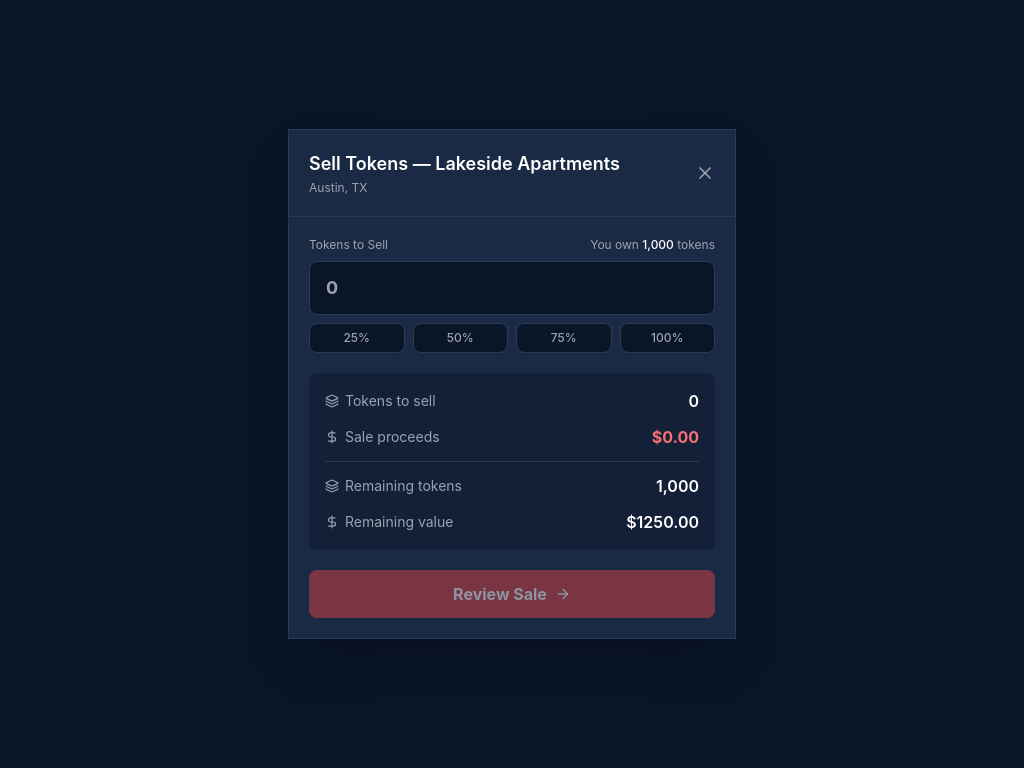
Test: SellModal › Step 1 — tokens › Review Sale button is enabled after selecting tokens
Click the button "25%" at x=357, y=338, box [309,323,404,353]
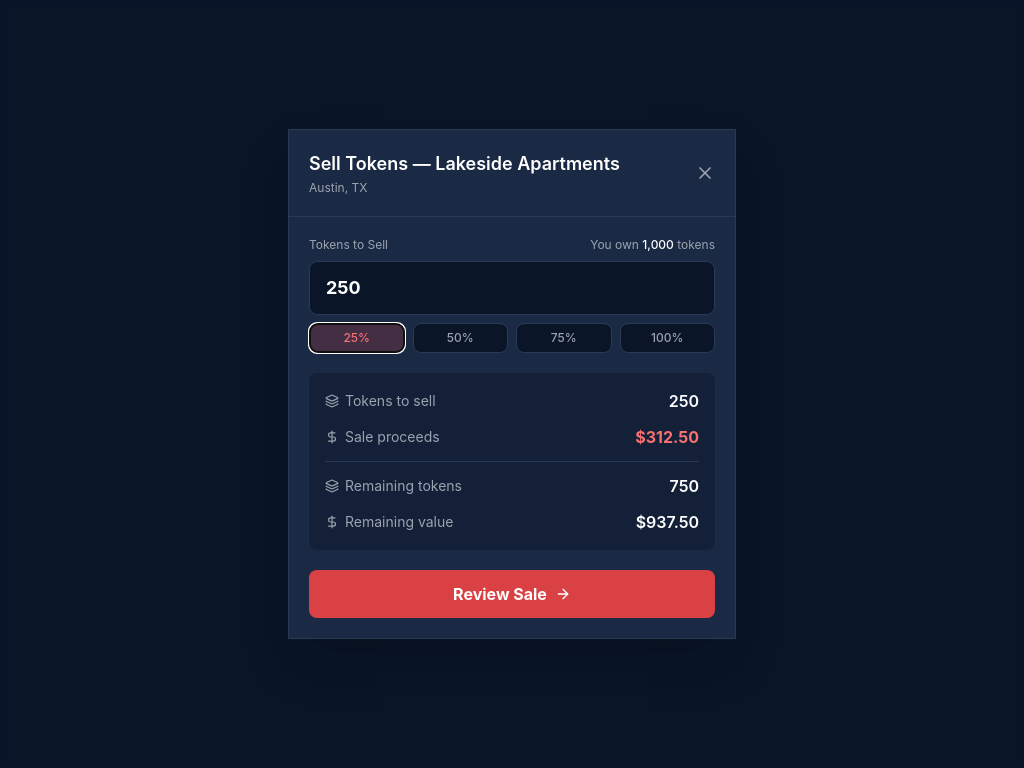
Result: the button "Review Sale" is enabled at [309,570,715,618]
